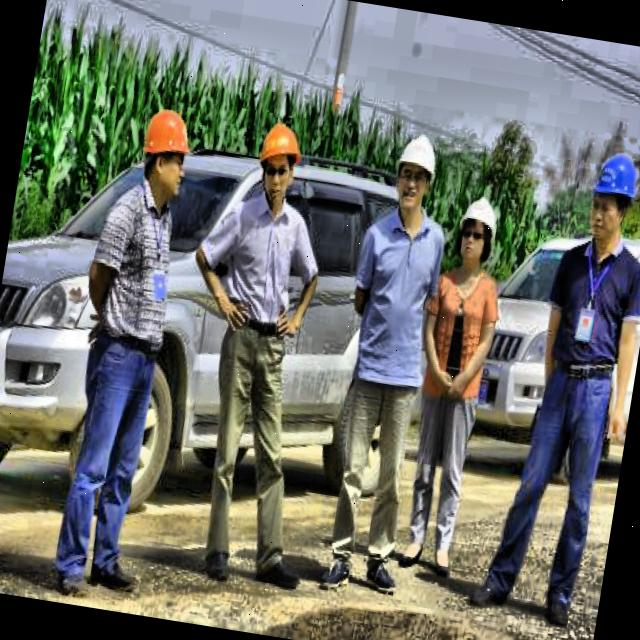helmet: (132, 103, 200, 204), (581, 141, 640, 251), (386, 126, 444, 222), (252, 116, 308, 206), (450, 184, 505, 274)
